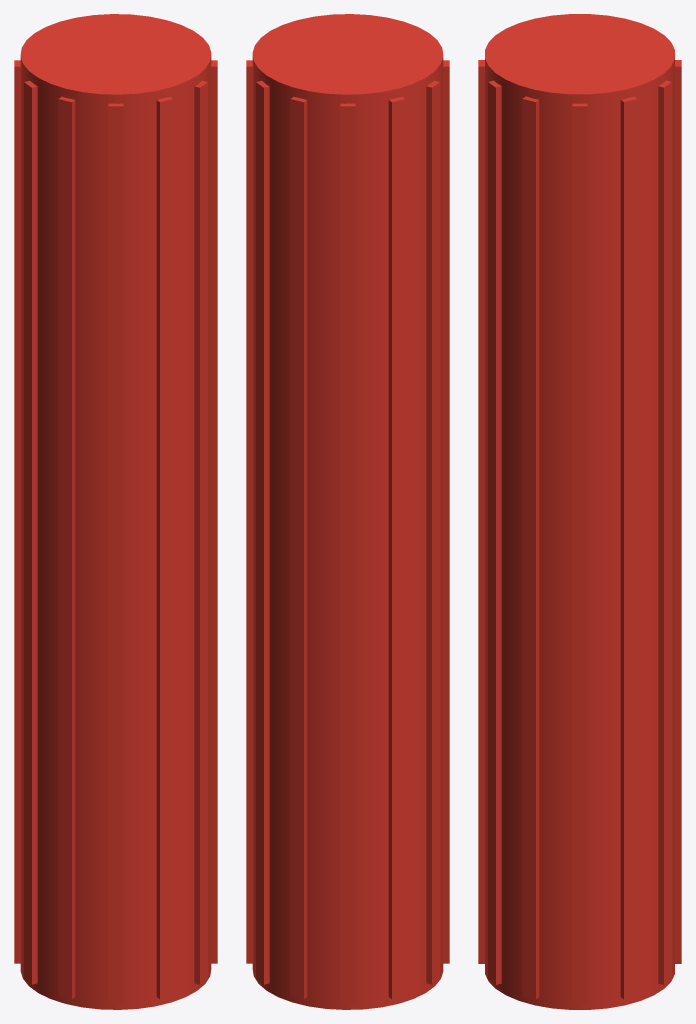
The model's file is pawn_body-classic.glb.
3 views of the same model, side by side, from view 1: azimuth 30°, elevation 25°; view 2: azimuth 150°, elevation 25°; view 3: azimuth 270°, elevation 25° (orthographic).
Parts seen in each view (by area): view 1: pawn_body-classic; view 2: pawn_body-classic; view 3: pawn_body-classic.
Boxes of the visible parts, bbox=[...] form: pawn_body-classic: bbox=[14, 14, 217, 1009]; pawn_body-classic: bbox=[246, 14, 449, 1009]; pawn_body-classic: bbox=[478, 14, 681, 1009].
Size of the model in its own units: 0.2012 by 1 by 0.2012.
